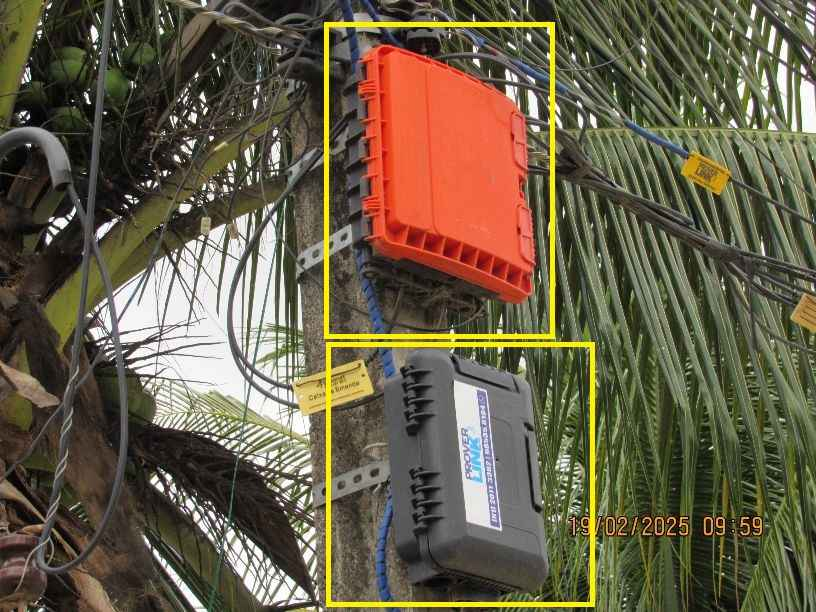caixa_derivacao: (341, 43, 539, 313), (378, 349, 560, 594)
fibra_optica: (232, 11, 306, 66), (676, 136, 734, 201)
poste: (274, 5, 506, 612)
